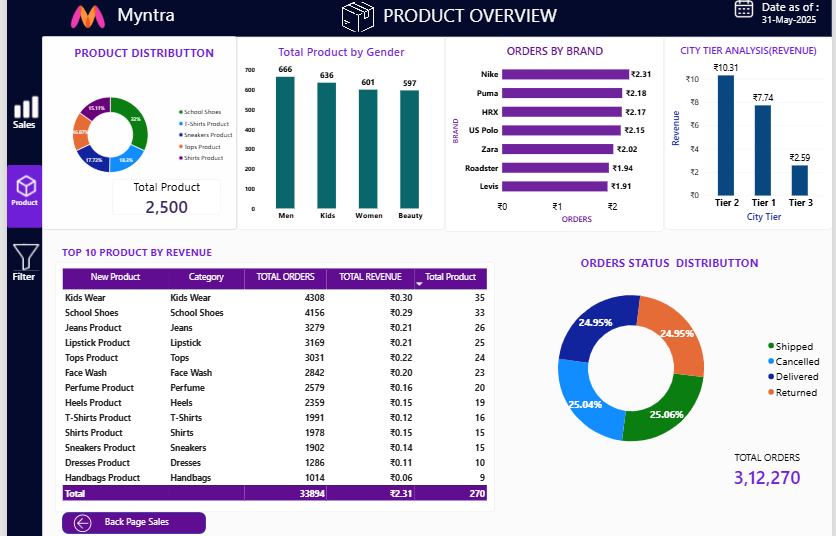

The dashboard page shown, as its layout file describes it:
{"tool":"powerbi","page":{"name":"Product","canvas":[1920,1280],"ordinal":1},"visuals":[{"type":"group","id":"g1","title":"Left Pane","box":[0,12.8,81.9,1262.1],"z":0},{"type":"shape","title":"Pane","box":[0,12.8,81.9,1262.1],"z":0,"group":"g1"},{"type":"shape","title":"TOP Shap","box":[81.9,12.8,1838.1,94.7],"z":0,"group":"g2"},{"type":"donutChart","title":"PRODUCT DISTRIBUTTON","fields":{"Category":["myntra_product_catalog.New Product"],"Y":["ALL_Measure.TOTAL ORDERS"]},"box":[81.9,107.5,453.1,450.6],"z":0,"group":"g5"},{"type":"tableEx","fields":{"Values":["myntra_product_catalog.New Product","myntra_product_catalog.Category","ALL_Measure.TOTAL ORDERS","ALL_Measure.TOTAL REVENUE","ALL_Measure.Total Product"]},"box":[112.6,632.9,1024.4,581.9],"z":0,"group":"g6"},{"type":"cardVisual","fields":{"Data":["ALL_Measure.TOTAL ORDERS"]},"box":[1620.4,1049.6,299.5,133.1],"z":0,"group":"g4"},{"type":"shape","box":[128.7,1214.7,335.2,50.9],"z":0,"group":"g3"},{"type":"group","id":"g2","title":"Top Pane","box":[81.9,12.8,1838.9,97.3],"z":1000},{"type":"image","title":"Logo","box":[133.2,18.4,110.1,87],"z":1000,"group":"g2"},{"type":"actionButton","title":"Sales","box":[0,222.3,81.9,146.4],"z":1000,"group":"g1"},{"type":"cardVisual","fields":{"Data":["ALL_Measure.Total Product"]},"box":[245.7,440.3,253.4,84.5],"z":1000,"group":"g5"},{"type":"textbox","box":[128.7,587.3,429.1,42.9],"z":1000,"group":"g6"},{"type":"pieChart","title":"ORDERS STATUS DISTRIBUTION","fields":{"Category":["Order_Data.Order_Status"],"Y":["ALL_Measure.TOTAL ORDERS"]},"box":[1136.6,645.2,765.4,471],"z":1000,"group":"g4"},{"type":"actionButton","box":[142.1,1217.4,67,45.6],"z":1000,"group":"g3"},{"type":"textbox","title":"Logo_Text","box":[245.9,23.6,158.7,69.1],"z":2000,"group":"g2"},{"type":"textbox","box":[143.3,128,355.8,51.2],"z":2000,"group":"g5"},{"type":"actionButton","title":"Product","box":[0,406.6,81.9,146.4],"z":2000,"group":"g1"},{"type":"textbox","box":[1273.7,616.8,539,50.9],"z":2000,"group":"g4"},{"type":"textbox","box":[227.9,1222.7,185,42.9],"z":2000,"group":"g3"},{"type":"image","title":"Sales Logo","box":[778.7,25.8,79.8,69.2],"z":3000,"group":"g2"},{"type":"actionButton","title":"Filter","box":[0,570.6,81.9,146.4],"z":3000,"group":"g1"},{"type":"textbox","title":"Title","box":[836.3,25.8,485.2,69.2],"z":4000,"group":"g2"},{"type":"textbox","title":"Data Info","box":[1756.9,19.3,144,47.6],"z":5000,"group":"g2"},{"type":"group","id":"g3","title":"Back to Page Button","box":[128.7,1214.7,335.2,50.9],"z":5000},{"type":"image","title":"canlander","box":[1677.1,19.3,79.8,43.2],"z":6000,"group":"g2"},{"type":"group","id":"g4","title":"Order Status Distribution","box":[1136.6,616.8,783.4,566],"z":6000},{"type":"textbox","title":"date","box":[1756.9,51.7,163.9,58.4],"z":7000,"group":"g2"},{"type":"group","id":"g5","title":"Product Distribution","box":[81.9,107.5,453.1,450.6],"z":7000},{"type":"group","id":"g6","title":"Table Top 10 Product","box":[112.6,587.3,1024.4,627.5],"z":8000},{"type":"columnChart","fields":{"Category":["myntra_product_catalog.Gender"],"Y":["ALL_Measure.Total Product"]},"box":[535,110.1,483.8,448],"z":8250},{"type":"clusteredBarChart","title":"ORDERS BY BRAND","fields":{"Category":["myntra_product_catalog.Brand_Name"],"Y":["ALL_Measure.TOTAL REVENUE"]},"box":[1018.9,110.1,509.4,453.1],"z":8375},{"type":"columnChart","title":"CITY TIER ANALYSIS(REVENUE)","fields":{"Category":["Order_Data.City_Tier"],"Y":["ALL_Measure.TOTAL REVENUE"]},"box":[1528.3,110.1,391.7,448],"z":8500}]}

Visuals, with their boxes on the page's 1920x1280 design canvas (x1, y1, x2, y2). These are canvas units, not pixel positions in the 836x536 screenshot, which may show the page scaled, cropped or inside an application window:
"Left Pane" group: crop(0, 13, 82, 1275)
"Pane" shape: crop(0, 13, 82, 1275)
"TOP Shap" shape: crop(82, 13, 1920, 108)
"PRODUCT DISTRIBUTTON" donutChart: crop(82, 108, 535, 558)
tableEx - myntra_product_catalog.New Product x myntra_product_catalog.Category: crop(113, 633, 1137, 1215)
cardVisual - ALL_Measure.TOTAL ORDERS: crop(1620, 1050, 1920, 1183)
shape: crop(129, 1215, 464, 1266)
"Top Pane" group: crop(82, 13, 1921, 110)
"Logo" image: crop(133, 18, 243, 105)
"Sales" actionButton: crop(0, 222, 82, 369)
cardVisual - ALL_Measure.Total Product: crop(246, 440, 499, 525)
textbox: crop(129, 587, 558, 630)
"ORDERS STATUS DISTRIBUTION" pieChart: crop(1137, 645, 1902, 1116)
actionButton: crop(142, 1217, 209, 1263)
"Logo_Text" textbox: crop(246, 24, 405, 93)
textbox: crop(143, 128, 499, 179)
"Product" actionButton: crop(0, 407, 82, 553)
textbox: crop(1274, 617, 1813, 668)
textbox: crop(228, 1223, 413, 1266)
"Sales Logo" image: crop(779, 26, 858, 95)
"Filter" actionButton: crop(0, 571, 82, 717)
"Title" textbox: crop(836, 26, 1322, 95)
"Data Info" textbox: crop(1757, 19, 1901, 67)
"Back to Page Button" group: crop(129, 1215, 464, 1266)
"canlander" image: crop(1677, 19, 1757, 62)
"Order Status Distribution" group: crop(1137, 617, 1920, 1183)
"date" textbox: crop(1757, 52, 1921, 110)
"Product Distribution" group: crop(82, 108, 535, 558)
"Table Top 10 Product" group: crop(113, 587, 1137, 1215)
columnChart - myntra_product_catalog.Gender x ALL_Measure.Total Product: crop(535, 110, 1019, 558)
"ORDERS BY BRAND" clusteredBarChart: crop(1019, 110, 1528, 563)
"CITY TIER ANALYSIS(REVENUE)" columnChart: crop(1528, 110, 1920, 558)
